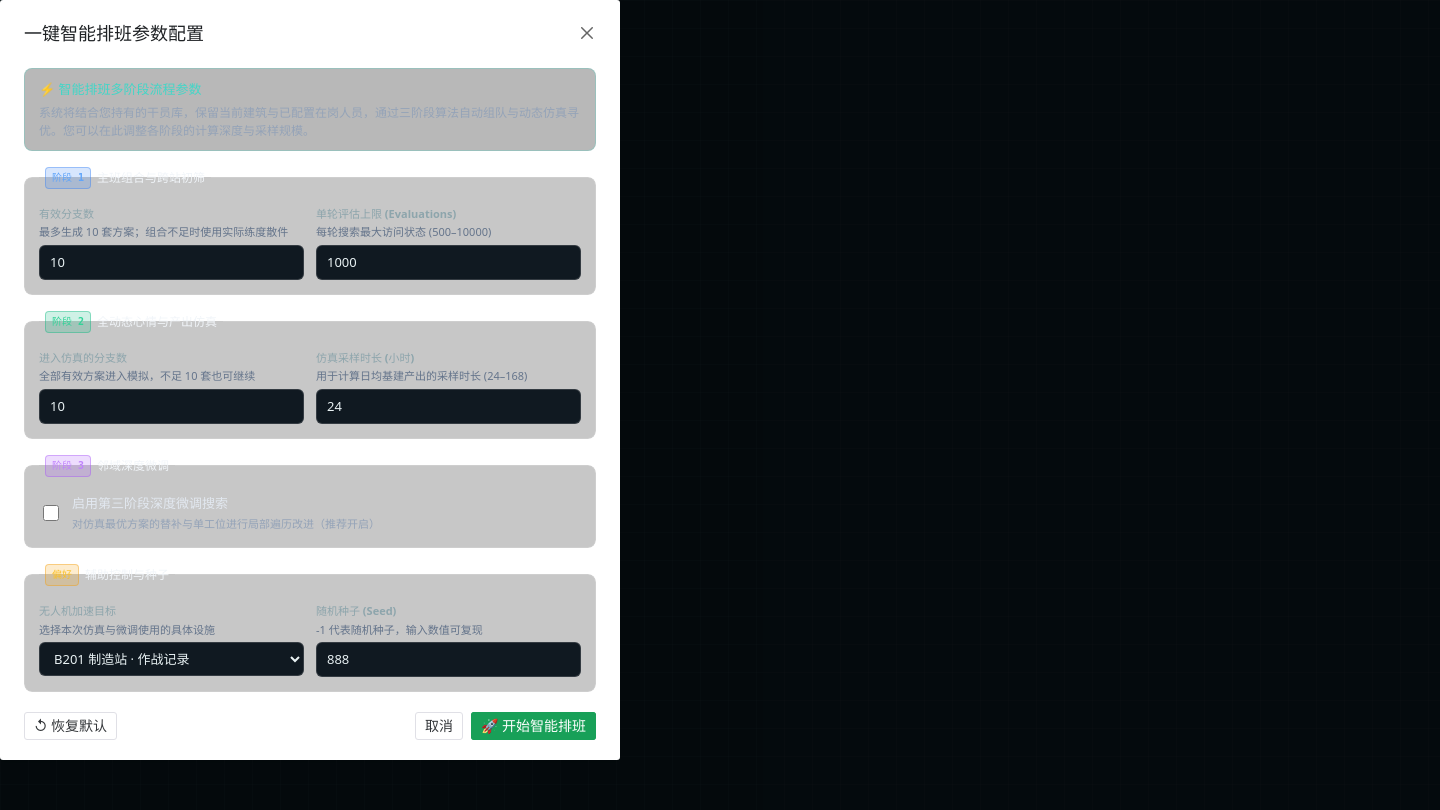
Test case: SmartRosterConfigModal.vue › resets form when reset button is clicked
Expected: the number field with test id "trials-input" holds "10", x1=39 y1=245 x2=304 y2=280
Click the button with test id "reset-btn" at [70, 726], box x1=24 y1=712 x2=117 y2=740
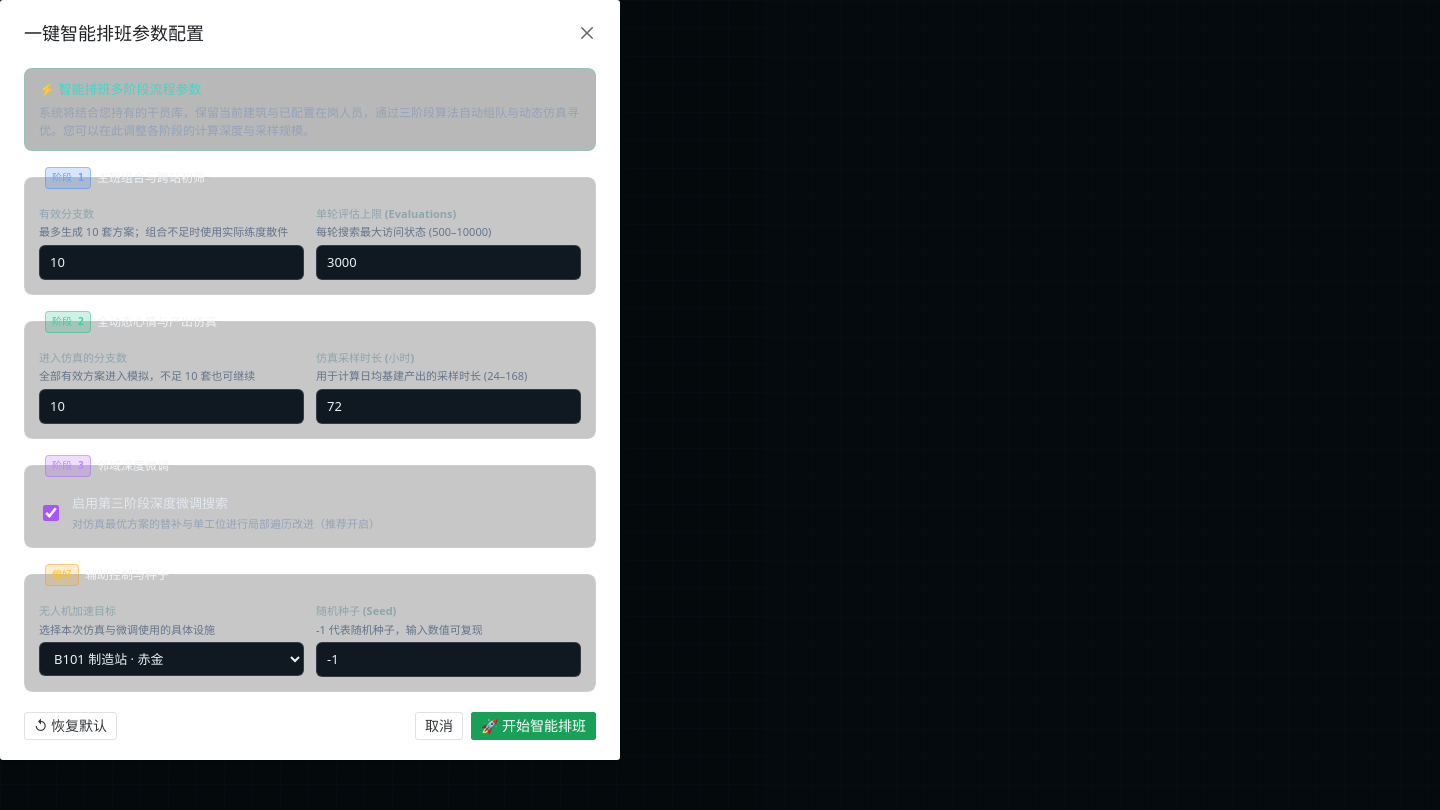
Expected: the number field with test id "trials-input" holds "10", x1=39 y1=245 x2=304 y2=280
Expected: the number field with test id "seed-input" holds "-1", x1=316 y1=642 x2=581 y2=677
